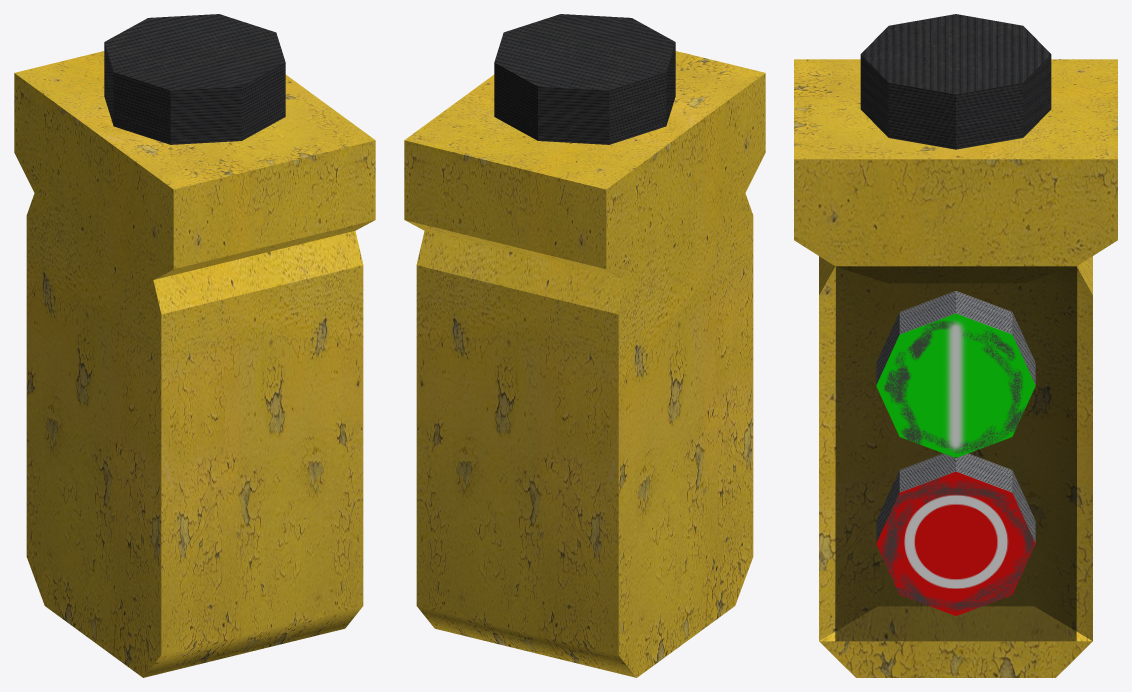
File: Airlock_Button.fbx
The picture shows the model from 3 angles, left to right: view 1: azimuth 30°, elevation 25°; view 2: azimuth 150°, elevation 25°; view 3: azimuth 270°, elevation 25°; orthographic projection.
Visible parts, largest first — view 1: pCylinder4; view 2: pCylinder4; view 3: pCylinder4.
Part boxes in pixels (bbox=[...]): pCylinder4: bbox=[14, 14, 375, 677]; pCylinder4: bbox=[404, 14, 765, 677]; pCylinder4: bbox=[794, 14, 1117, 677].
Size of the model in its own units: 0.8057 by 1.95 by 1.
